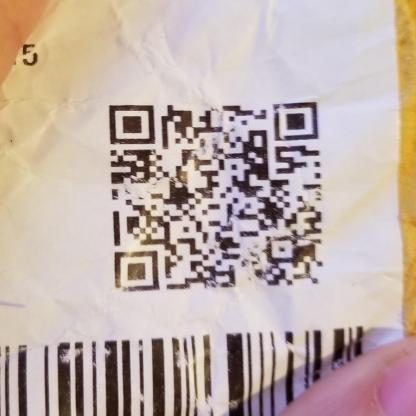barcode: (1, 321, 367, 416)
qr: (105, 99, 327, 293)
